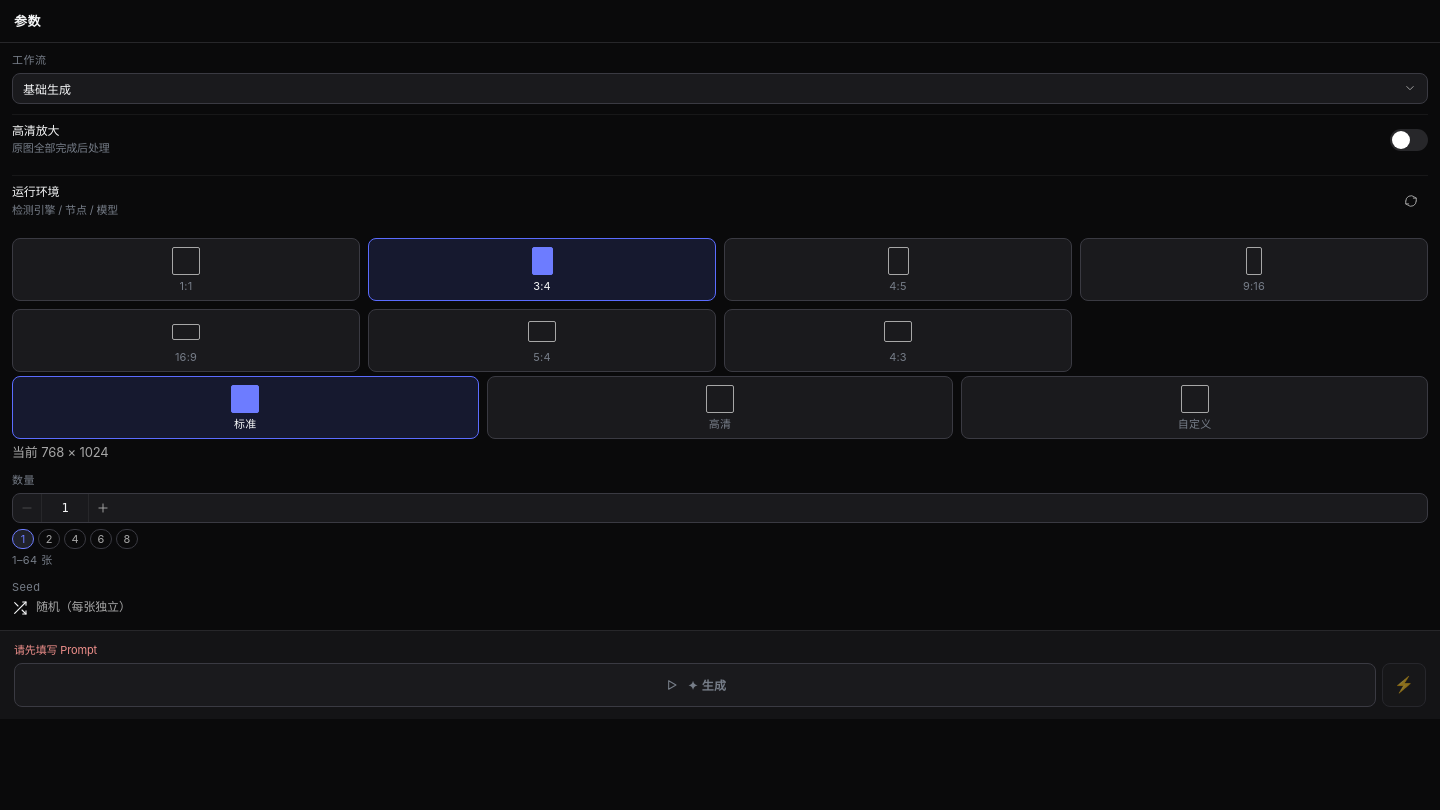
Test: W2.0 Runtime Preflight UI › BLOCKED：显示缺失节点/模型明细
The width and height of the screenshot is (1440, 810).
Click the button named "检查运行环境" at [1411, 201], box left=1394, top=184, right=1428, bottom=218
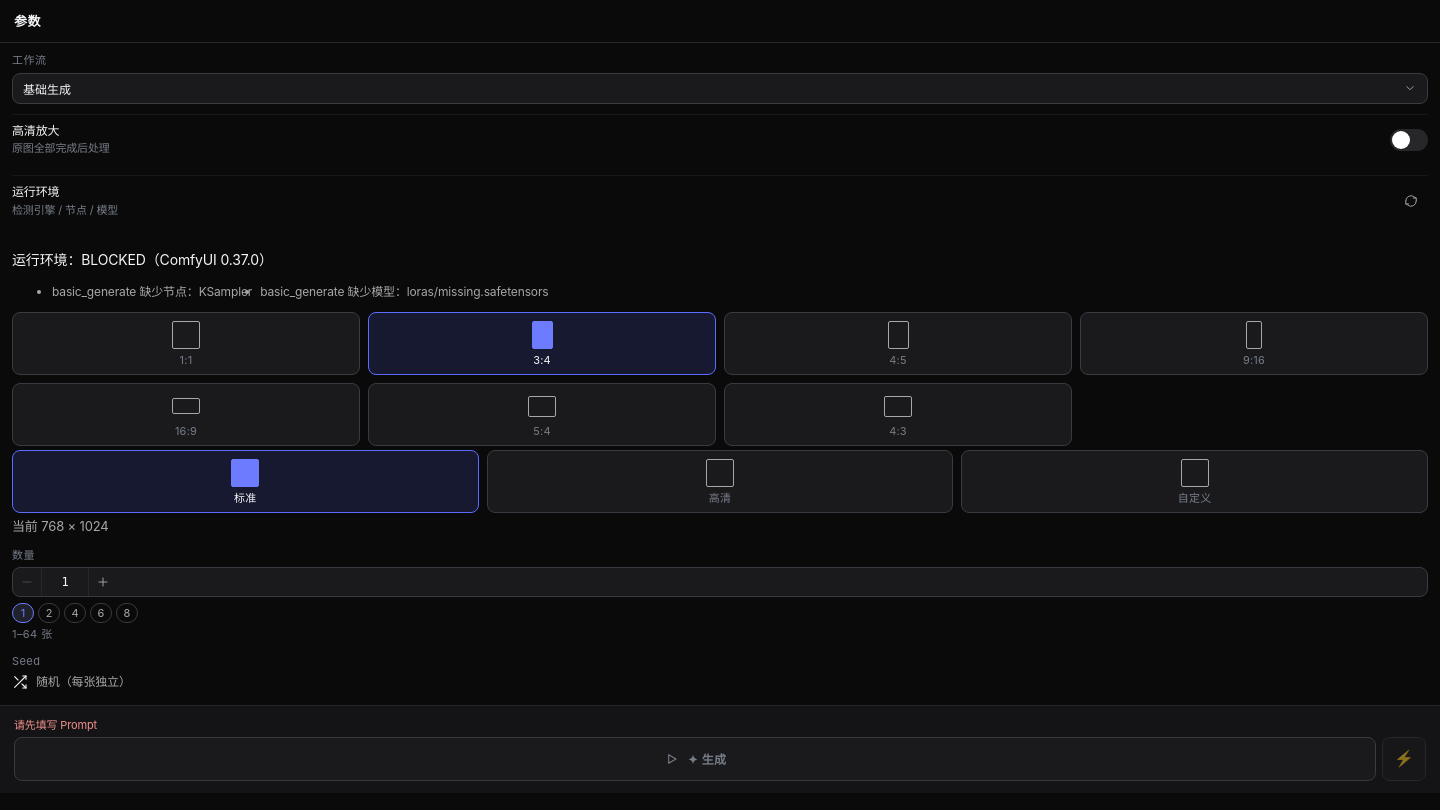
Expected: the message with test id "runtime-preflight-status" shows "BLOCKED", left=81, top=251, right=146, bottom=268
Expected: the list with test id "runtime-preflight-details" shows "KSampler", left=199, top=284, right=252, bottom=298
Expected: the list with test id "runtime-preflight-details" shows "loras/missing.safetensors", left=52, top=284, right=548, bottom=298
